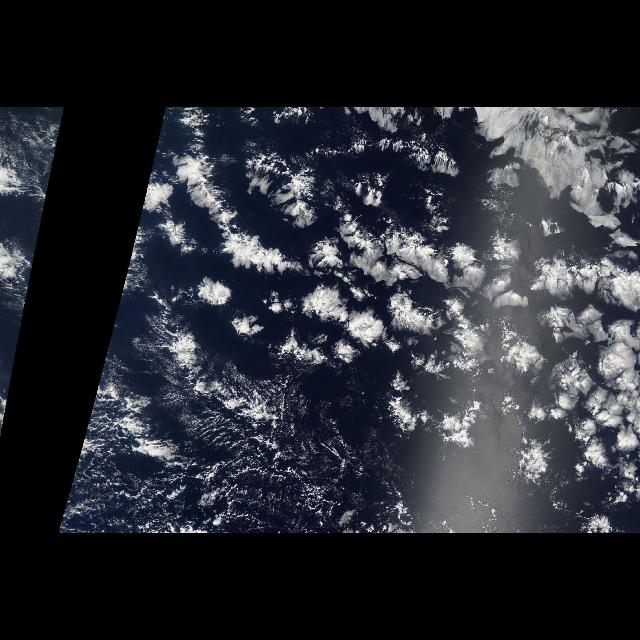Gravel: (127, 386, 420, 532)
